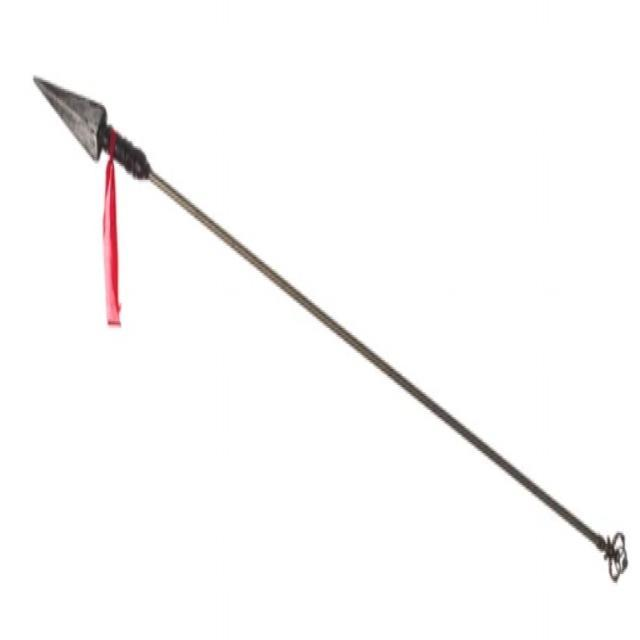spear: (22, 54, 634, 602)
